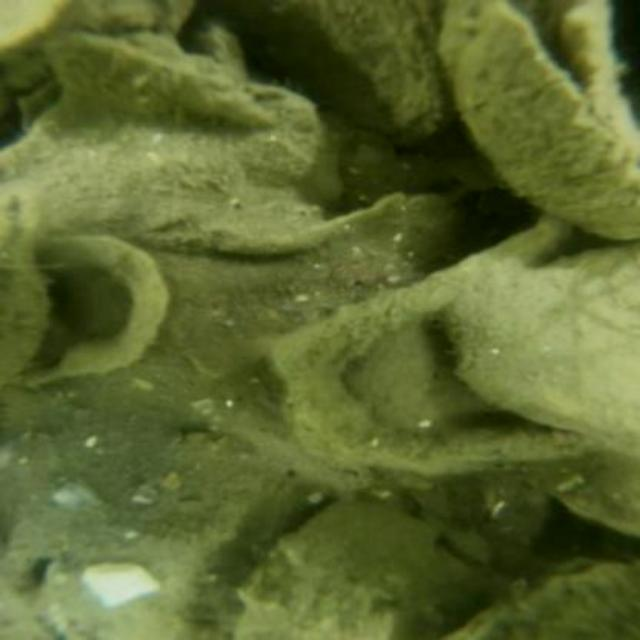Oyster-Closed: (265, 209, 638, 479), (157, 192, 463, 382), (8, 85, 327, 252), (445, 243, 637, 454), (238, 503, 503, 638), (208, 0, 449, 146), (0, 234, 173, 390), (44, 34, 291, 121), (47, 536, 218, 633), (449, 560, 638, 638), (6, 236, 48, 384)
Oyster-Open: (444, 0, 638, 242)
